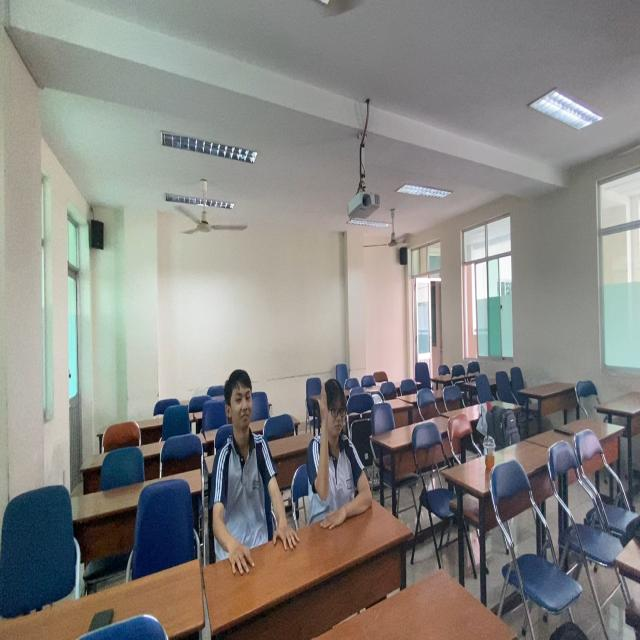raise_hand: (309, 359, 378, 531)
